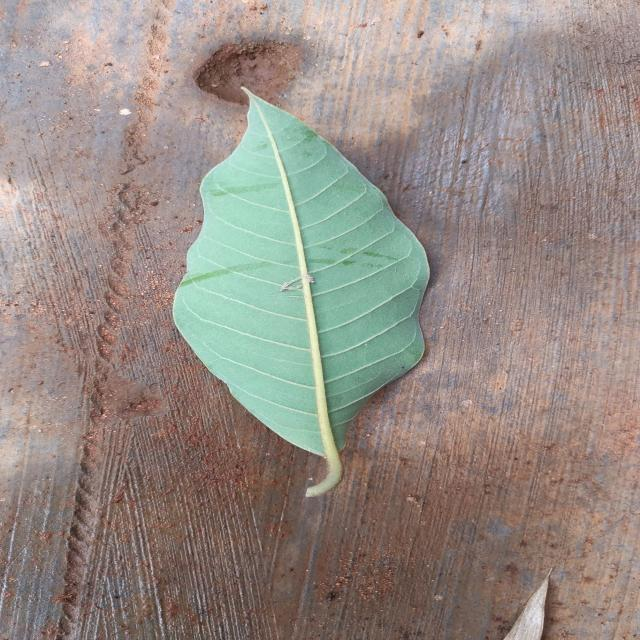coffee: (173, 88, 429, 496)
